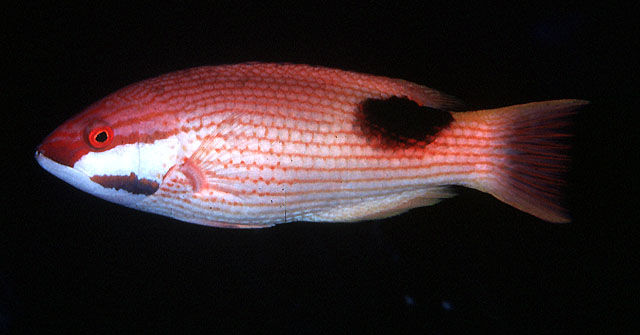fish: (35, 62, 584, 228)
